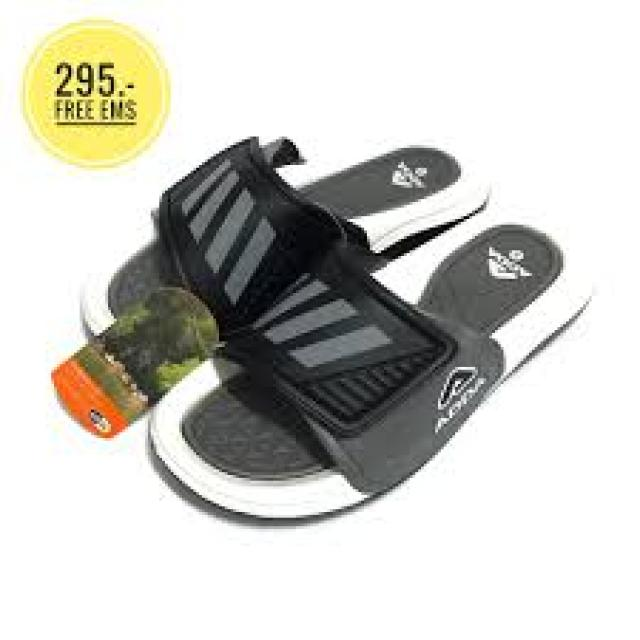shoe: (72, 128, 594, 530), (147, 207, 594, 524)
